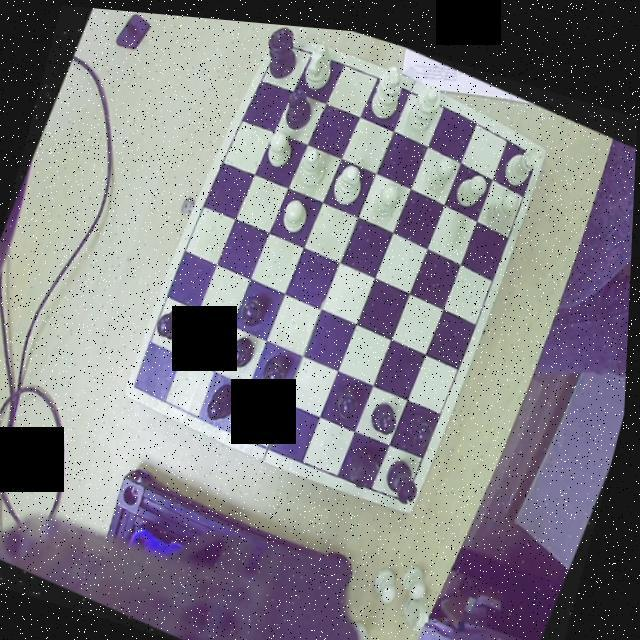chess-table-corners: (126, 366, 156, 398), (392, 476, 421, 507), (522, 132, 548, 166), (272, 24, 298, 54)
